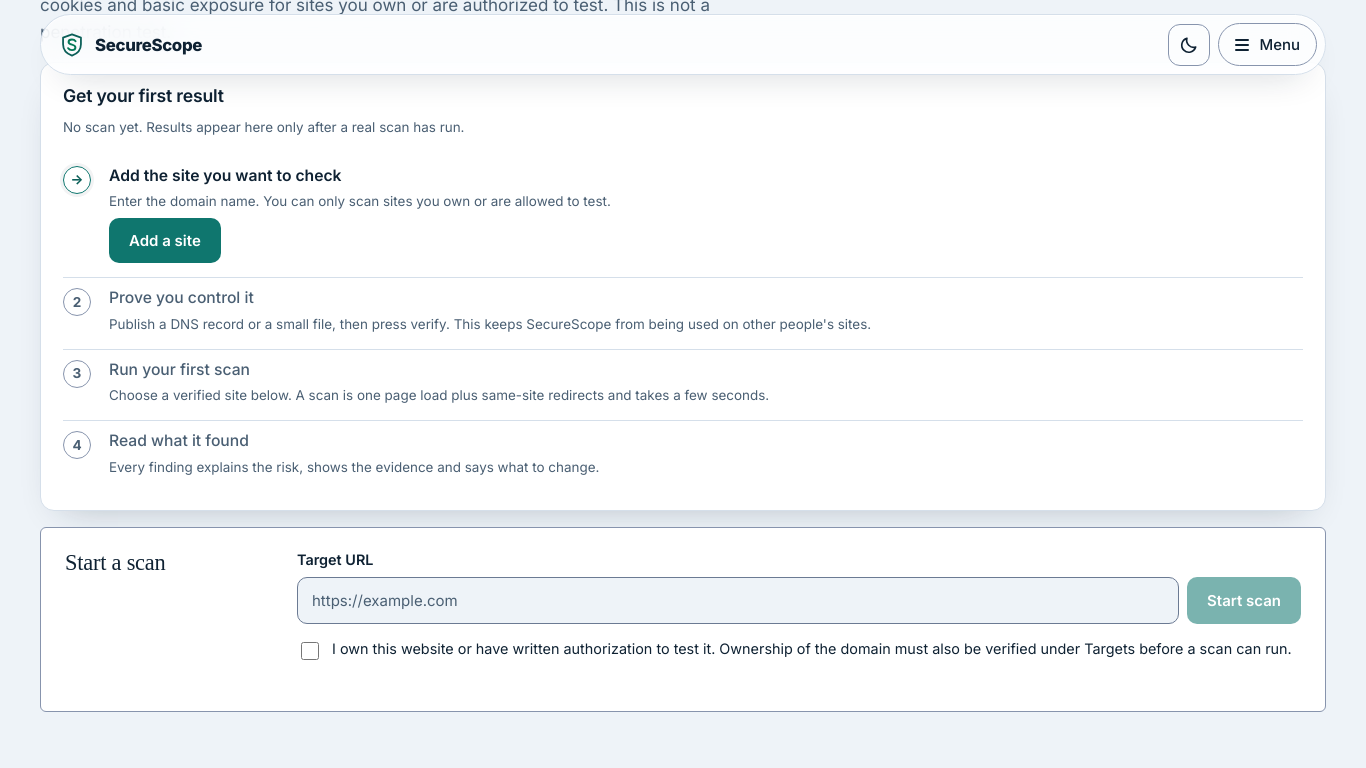
Test: Overview › keeps Start disabled until authorization is acknowledged
(page scrolled)
Type "https://example.org" into the field labelled "Target URL". click: (738, 601)
box: [297,577,1179,624]
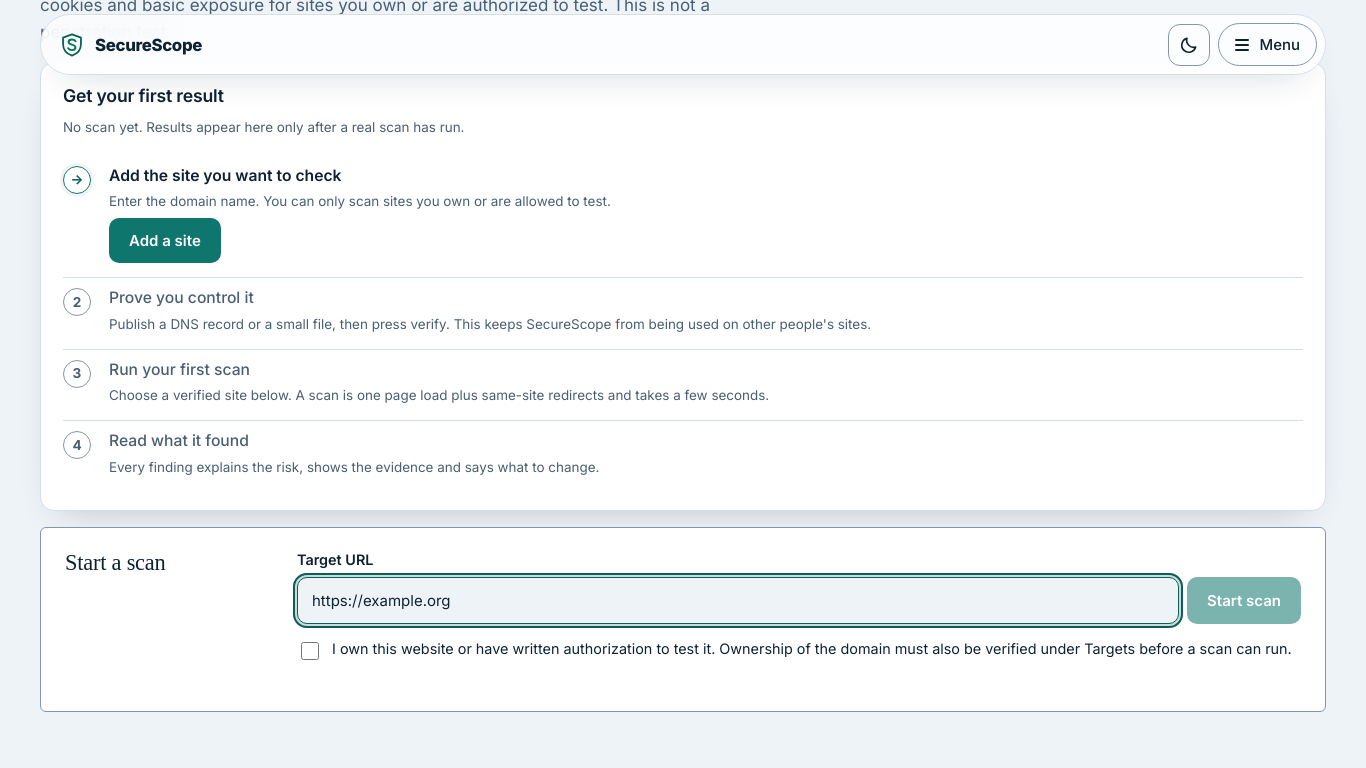
Expected: the button "Start scan" is disabled, [1187,577,1301,624]
Click the checkbox. click: click(310, 651)
box: [301,642,319,660]
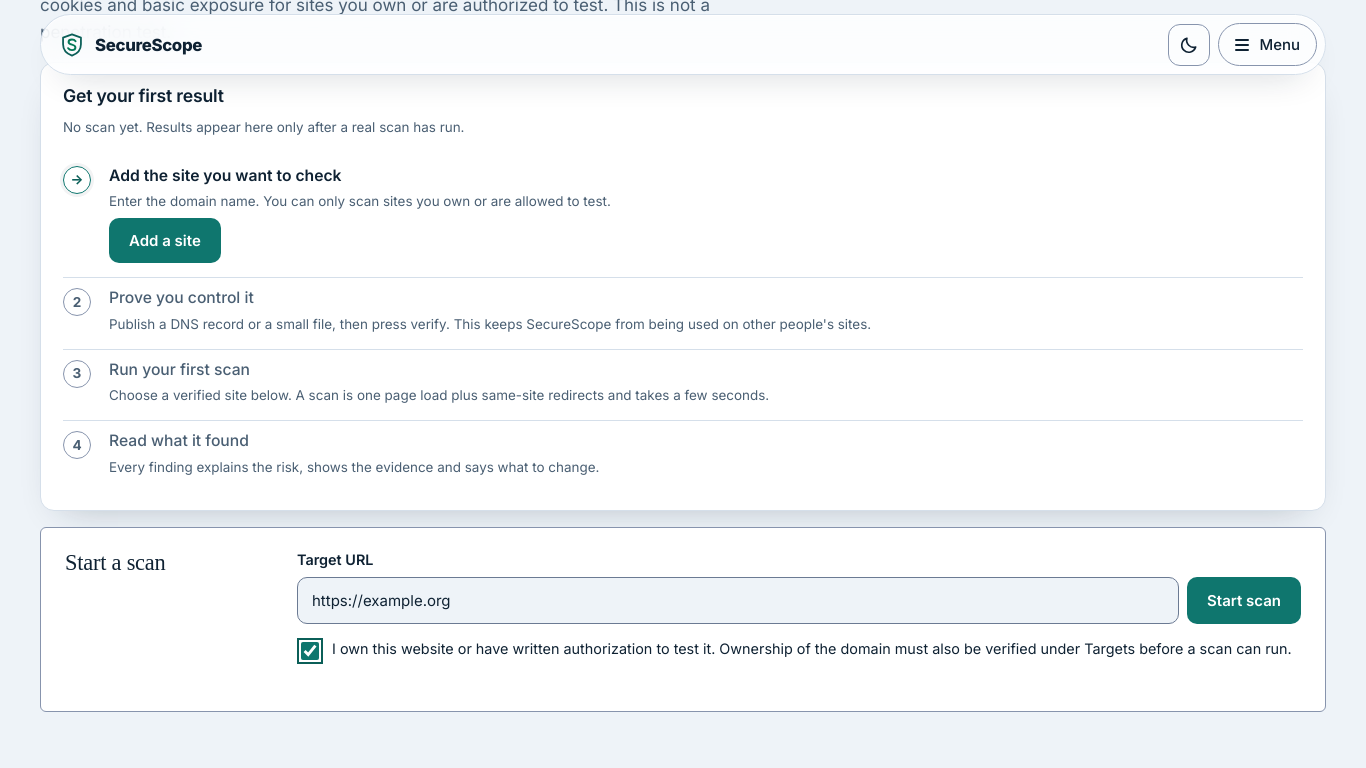
Result: the button "Start scan" is enabled at [1187,577,1301,624]
